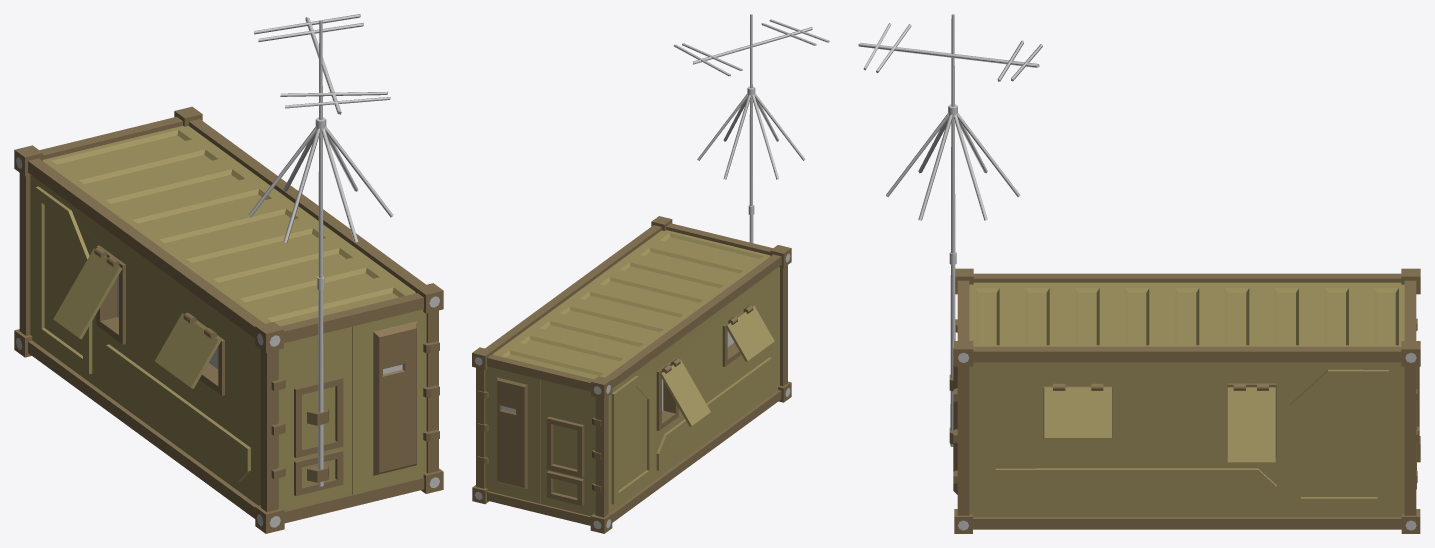
File: Radiostation_001.fbx
3 views of the same model, side by side, from view 1: azimuth 30°, elevation 25°; view 2: azimuth 150°, elevation 25°; view 3: azimuth 270°, elevation 25° (orthographic). The views are drawn at different scales.
Visible parts, largest first — view 1: Radiostation_001; view 2: Radiostation_001; view 3: Radiostation_001.
Boxes of the visible parts, left/top/right/bottom form: Radiostation_001: left=14, top=14, right=443, bottom=533; Radiostation_001: left=472, top=14, right=829, bottom=533; Radiostation_001: left=858, top=14, right=1420, bottom=533.
Bounding box in the file's own units: 363 × 742 × 675.
